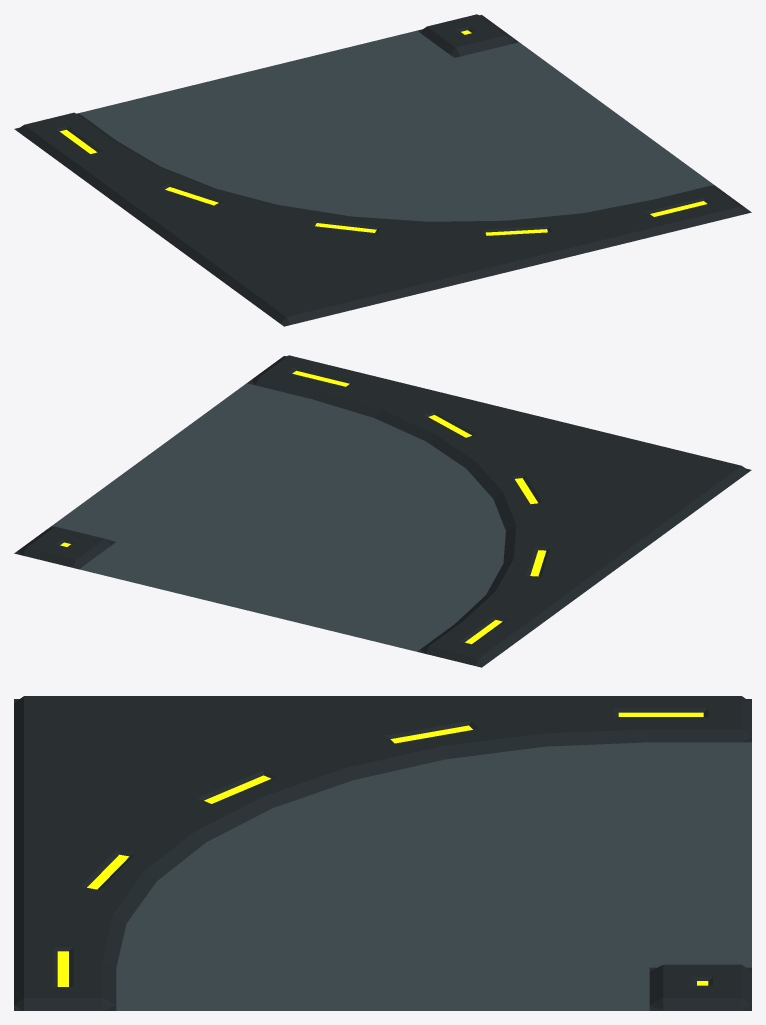
File: floorLType.fbx
The picture shows the model from 3 angles, top to bottom: view 1: azimuth 30°, elevation 25°; view 2: azimuth 150°, elevation 25°; view 3: azimuth 270°, elevation 25°; orthographic projection. The views are drawn at different scales.
Visible parts, largest first — view 1: floorLType; view 2: floorLType; view 3: floorLType.
Boxes of the visible parts, box(x1,y1,x2,y2) form: floorLType: box(14, 14, 751, 326); floorLType: box(14, 355, 751, 667); floorLType: box(14, 696, 751, 1010).
Bounding box in the file's own units: 2 × 2 × 0.0215.
